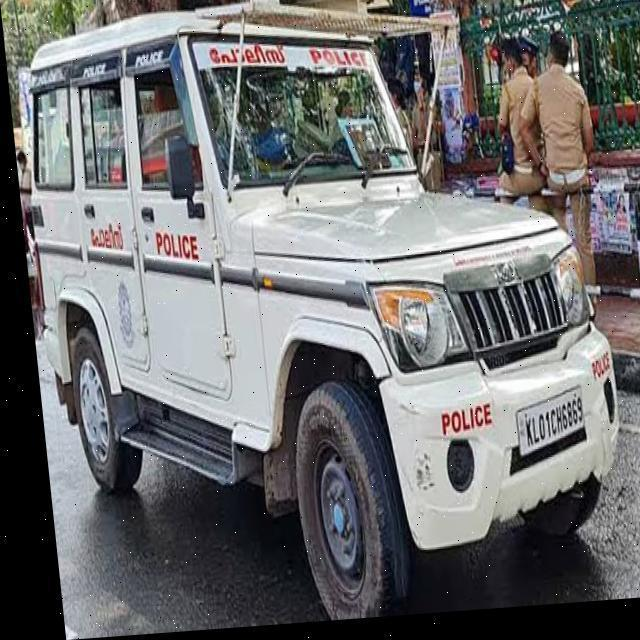Ambulance: (23, 10, 612, 621)
